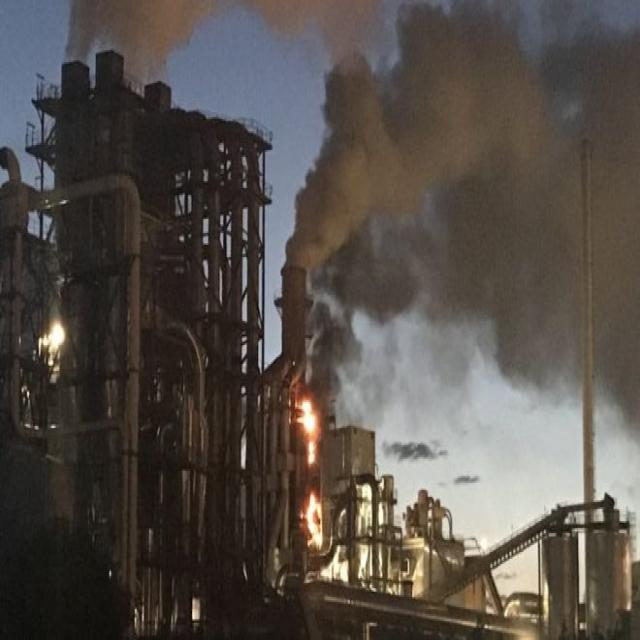Fire: (295, 395, 323, 551)
Smoke: (285, 0, 640, 444), (64, 0, 397, 96)
